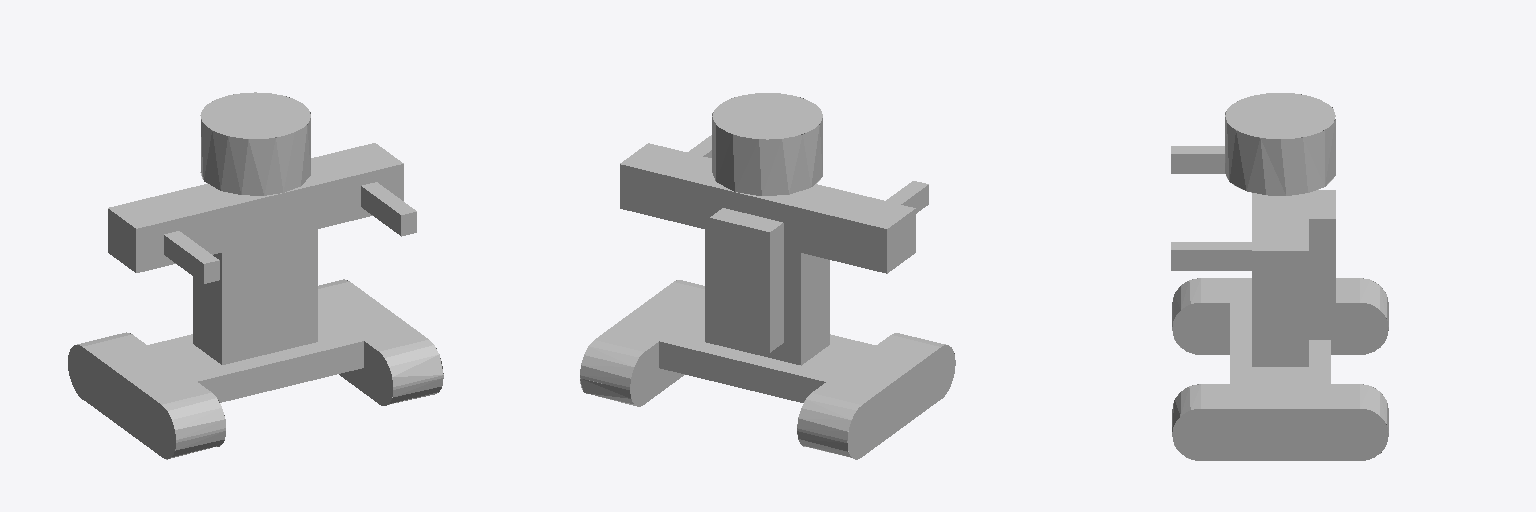
The model's file is mech1.obj.
3 views of the same model, side by side, from view 1: azimuth 30°, elevation 25°; view 2: azimuth 150°, elevation 25°; view 3: azimuth 270°, elevation 25° (orthographic).
Parts seen in each view (by area): view 1: SketchUp.010_ID60; view 2: SketchUp.010_ID60; view 3: SketchUp.010_ID60.
Part boxes in pixels (x1,y1,x2,y2): SketchUp.010_ID60: (68,92,443,459); SketchUp.010_ID60: (580,93,955,459); SketchUp.010_ID60: (1171,93,1388,460).
Bounding box in the file's own units: 0.9779 × 0.9778 × 0.6898.